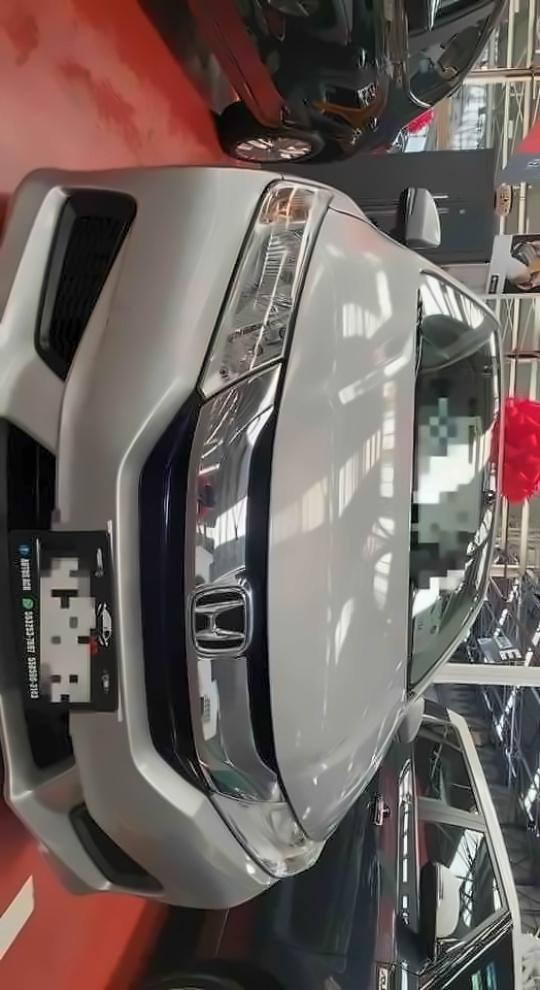Car hood: (262, 197, 412, 844)
Front bumper: (0, 159, 282, 911)
Headlight - -L-: (190, 747, 326, 884)
Headlight - -R-: (194, 174, 340, 407)
Side mirror - -L-: (380, 685, 431, 758)
Side mirror - -R-: (395, 184, 449, 268)
